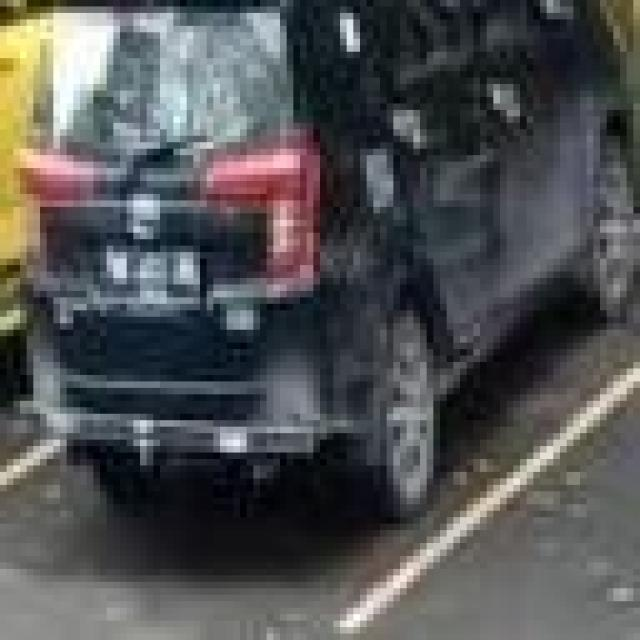Car: (7, 0, 640, 549)
